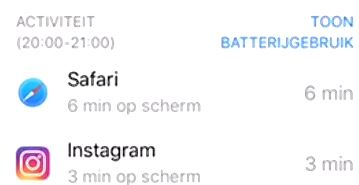activity: (7, 12, 120, 54)
app: (7, 64, 359, 123), (7, 126, 359, 185)
